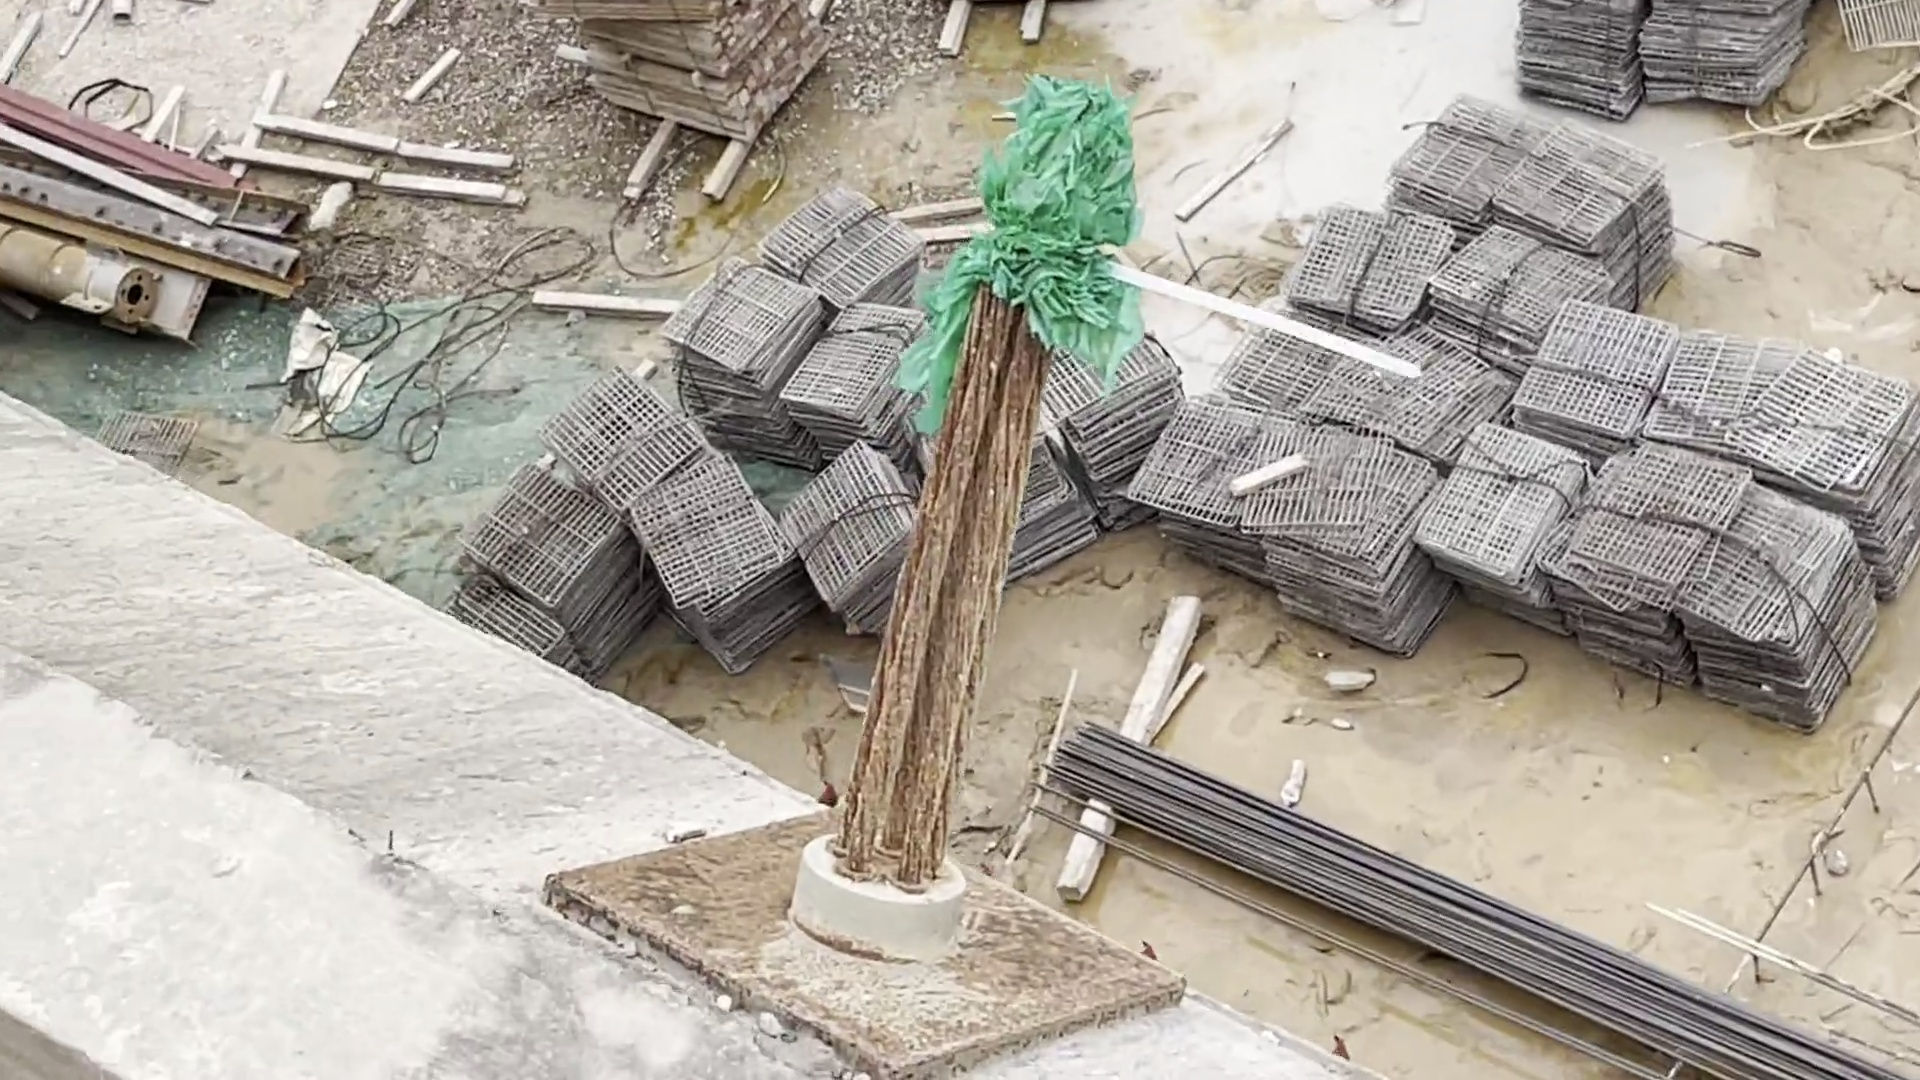rebar: (1035, 709, 1826, 1080)
wood: (554, 1, 831, 160)
